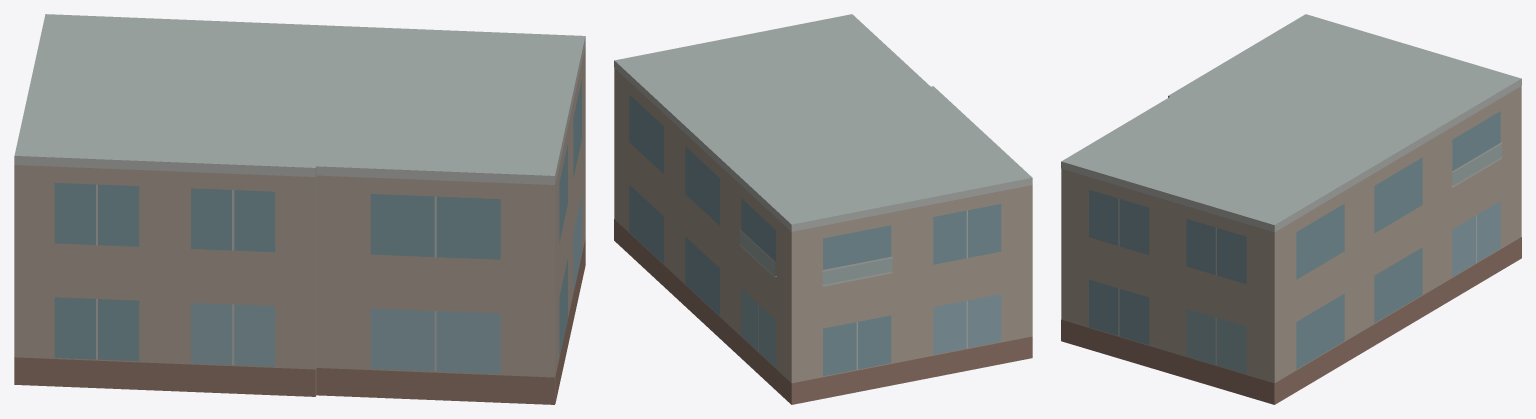
File: survey-upis-32801125.glb
3 views of the same model, side by side, from view 1: azimuth 30°, elevation 25°; view 2: azimuth 150°, elevation 25°; view 3: azimuth 270°, elevation 25° (orthographic). The views are drawn at different scales.
Visible parts, largest first — view 1: survey-upis-32801125.tmp; view 2: survey-upis-32801125.tmp; view 3: survey-upis-32801125.tmp.
Boxes of the visible parts, left/top/right/bottom form: survey-upis-32801125.tmp: left=14, top=14, right=585, bottom=404; survey-upis-32801125.tmp: left=614, top=14, right=1032, bottom=404; survey-upis-32801125.tmp: left=1061, top=14, right=1521, bottom=404.
Size of the model in its own units: 15.38 by 6.1 by 14.18.
